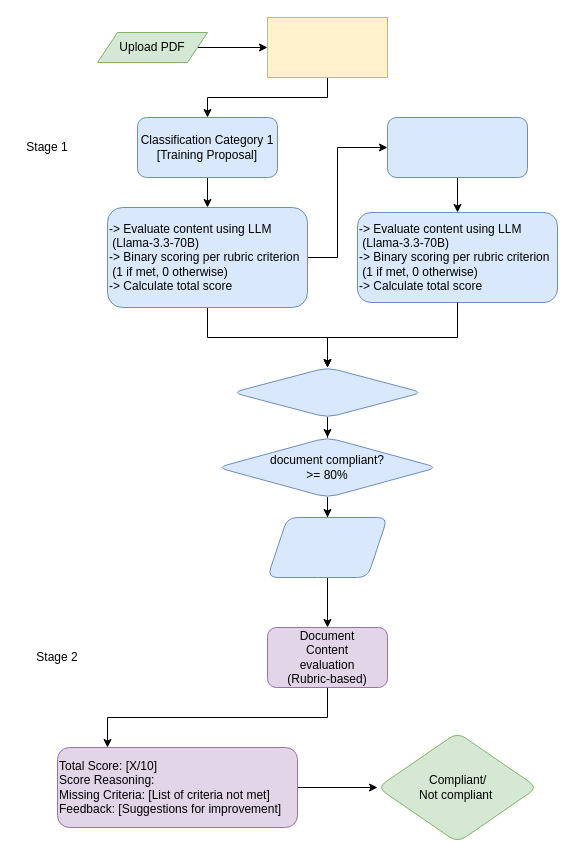
Image size: 575x860. Some labels were removed from this diagram. The centre of each missing label's shape, as x and y in pixels:
Classification Category 2 [ E-learning Scripts]: (x=457, y=147)
Classification Result: (x=327, y=547)
Extract text from PDF (pdfplumber): (x=327, y=47)
Highest Score?: (x=327, y=392)
